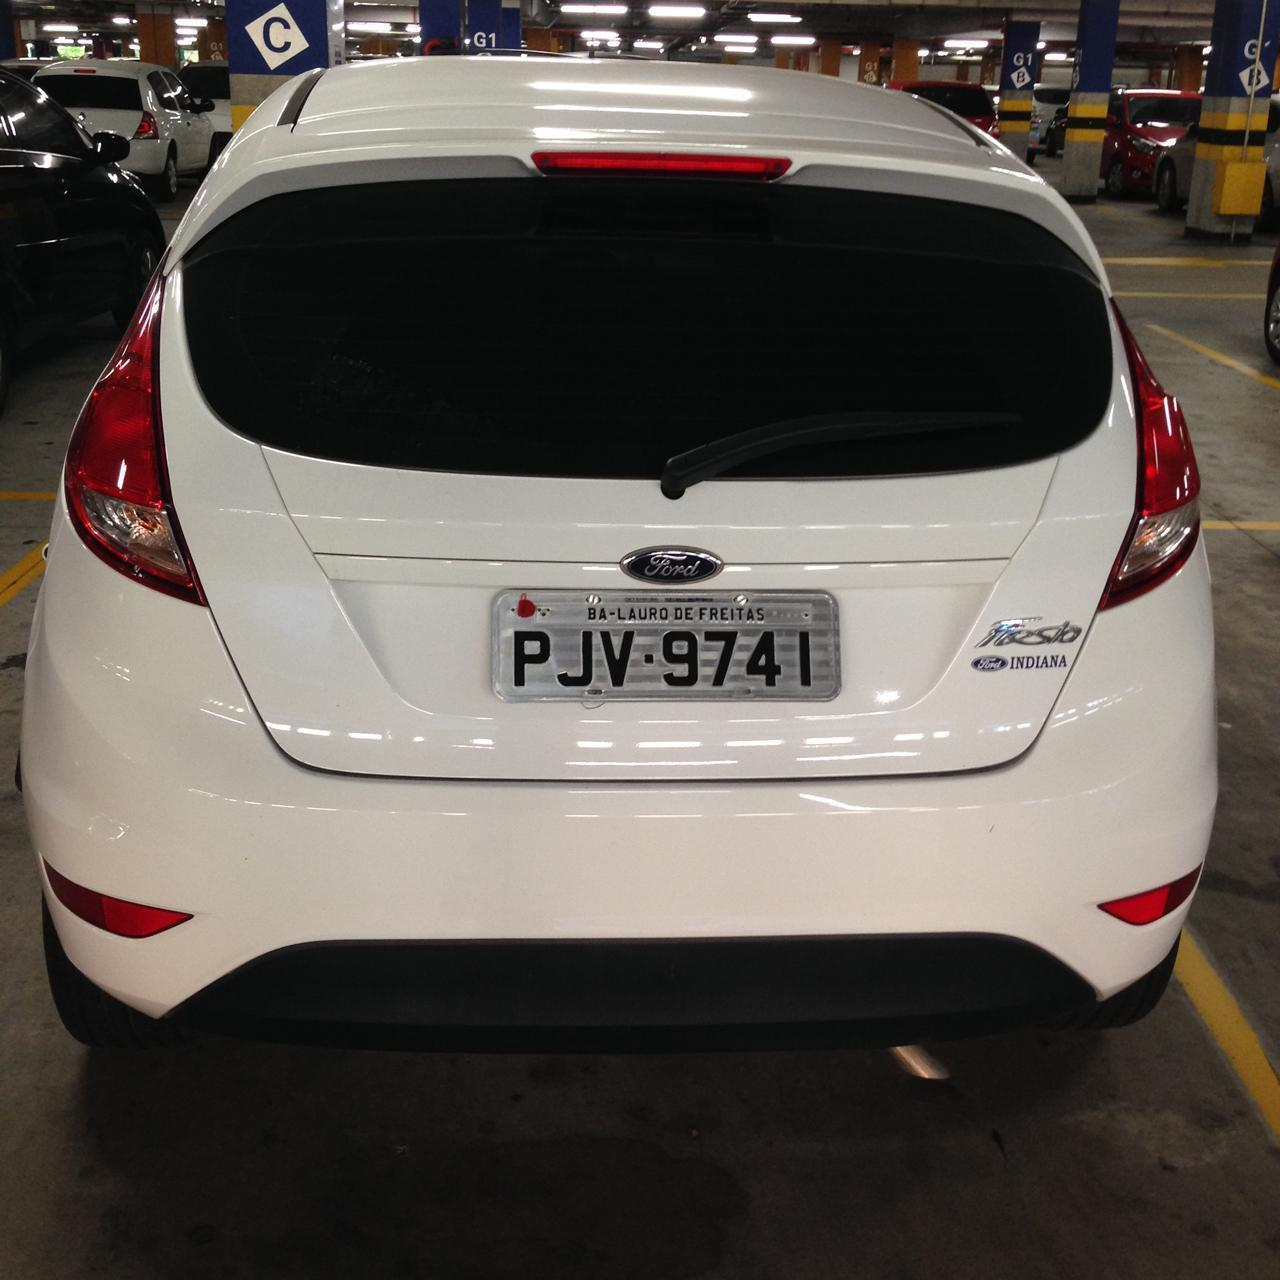placa de veiculo: (462, 560, 855, 740)
